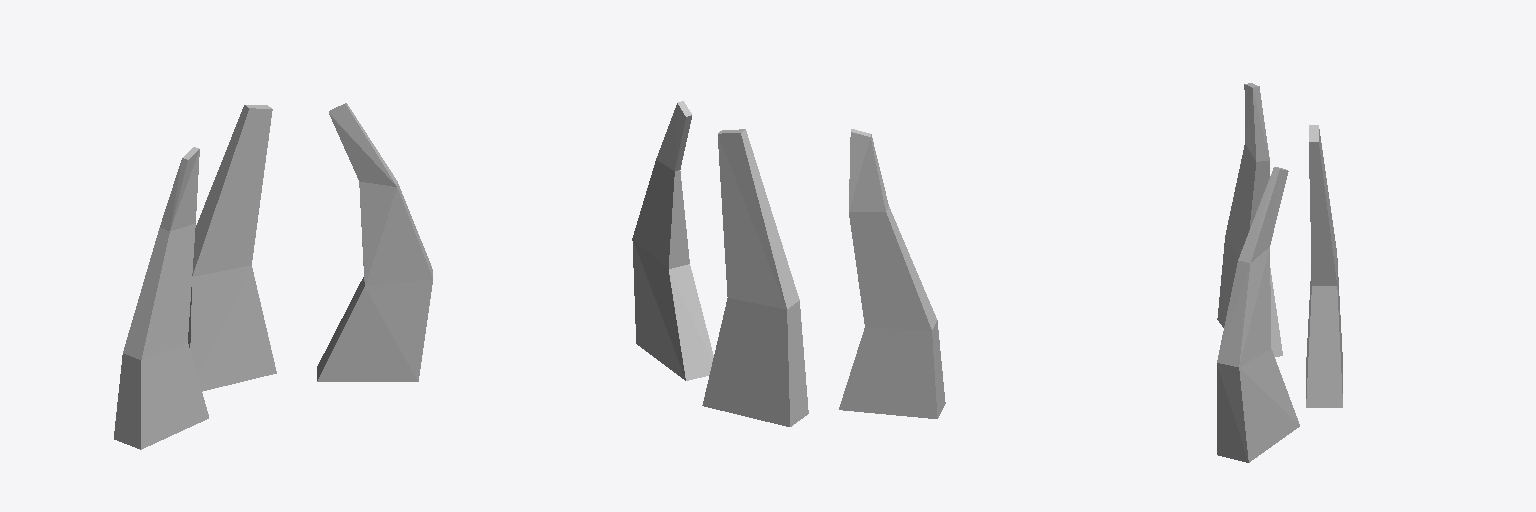
File: grass1.obj
3 renders of one model, left to right at view 1: azimuth 30°, elevation 25°; view 2: azimuth 150°, elevation 25°; view 3: azimuth 270°, elevation 25°, orthographic.
Parts seen in each view (by area): view 1: Cube_Cube.001; view 2: Cube_Cube.001; view 3: Cube_Cube.001.
Boxes of the visible parts, x1,y1,x2,y2 form: Cube_Cube.001: [114, 103, 432, 449]; Cube_Cube.001: [632, 101, 945, 426]; Cube_Cube.001: [1217, 83, 1342, 462].
Size of the model in its own units: 1.8 by 1.49 by 0.6326.